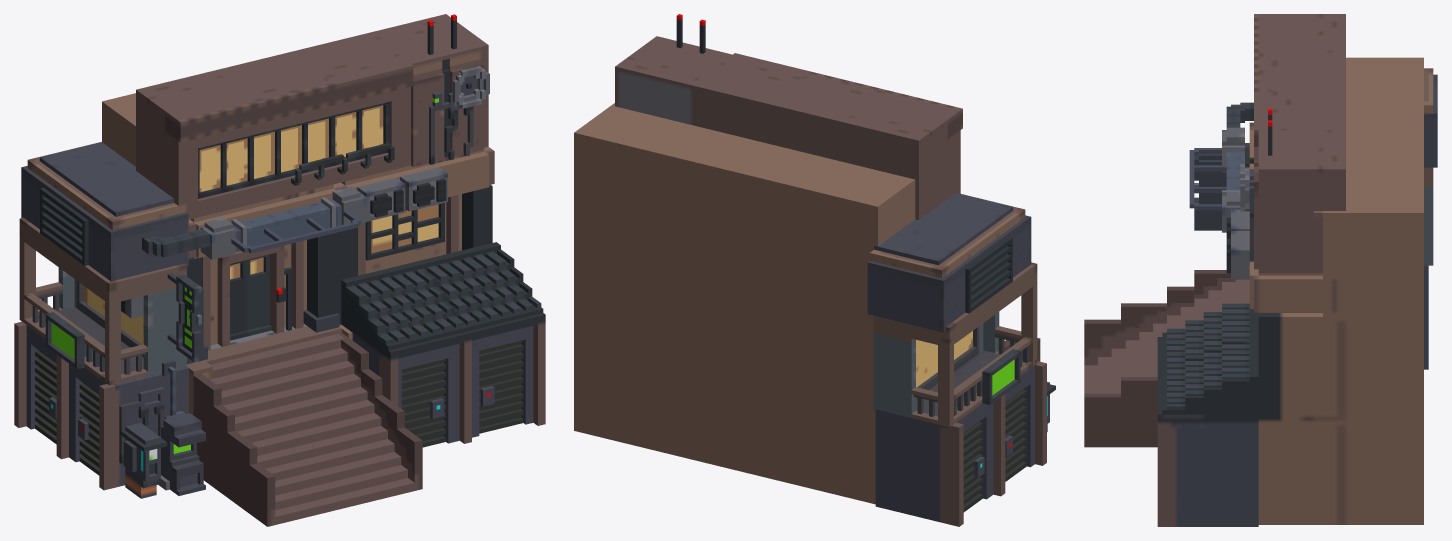
3 renders of one model, left to right at view 1: azimuth 30°, elevation 25°; view 2: azimuth 150°, elevation 25°; view 3: azimuth 270°, elevation 25°, orthographic. The views are drawn at different scales.
Parts seen in each view (by area): view 1: _3; view 2: _3; view 3: _3.
Boxes of the visible parts, x1,y1,x2,y2 form: _3: [14, 14, 545, 526]; _3: [574, 14, 1055, 526]; _3: [1084, 14, 1437, 526].
Bounding box in the file's own units: 1030 × 930 × 770.
